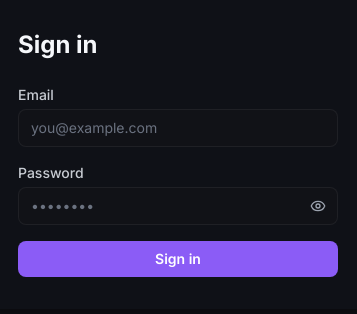
Test case: Login page › shows error message on wrong credentials
The image size is (357, 314).
In the field labelled "Email": (178, 128) x1=18 y1=109 x2=338 y2=147, type "user@example.com"
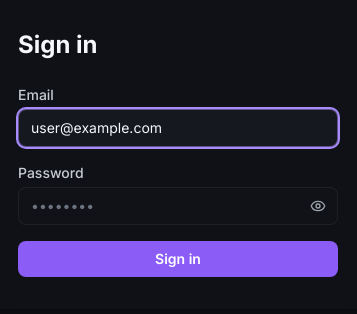
In the password field labelled "Password": (178, 206) x1=18 y1=187 x2=338 y2=225, type "wrongpassword"
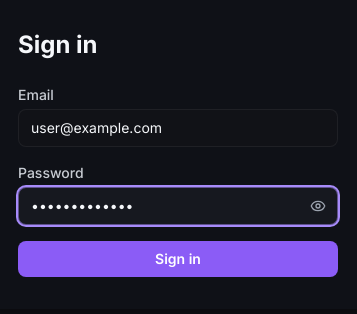
Click the button "Sign in": (178, 259) x1=18 y1=241 x2=338 y2=277
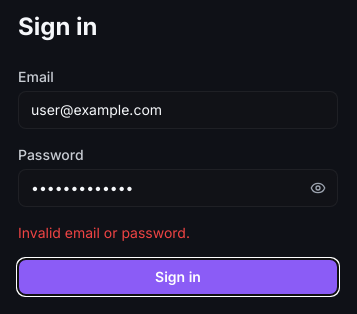
Expected: the message shows "Invalid email or password", x1=18 y1=224 x2=190 y2=241
